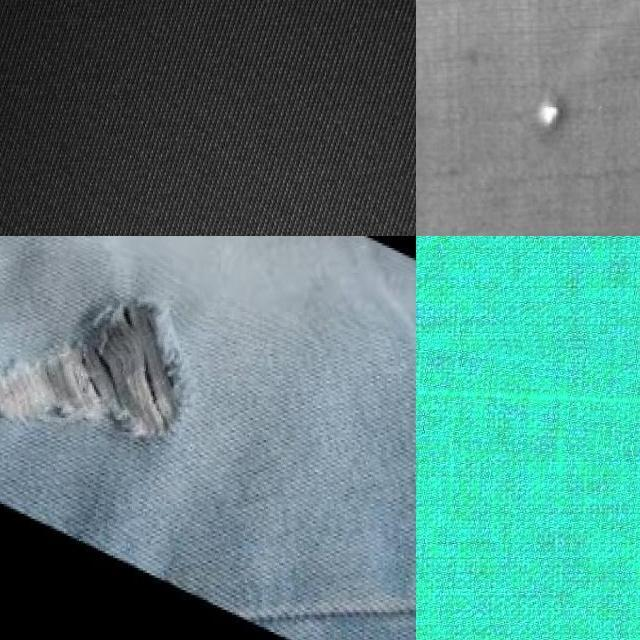Thread_other: (416, 330, 640, 454)
seam: (0, 247, 219, 492), (466, 53, 602, 151)
